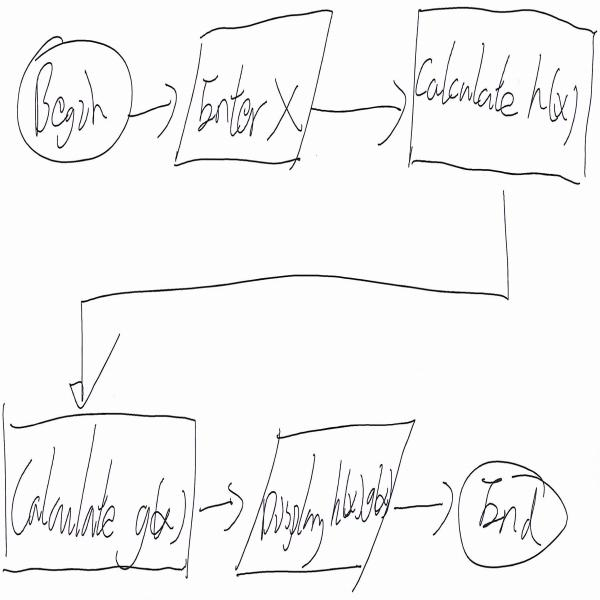arrow: (71, 187, 523, 408), (312, 77, 406, 149), (393, 468, 456, 546), (125, 79, 185, 145), (198, 484, 246, 535)
data: (231, 411, 420, 581), (170, 10, 339, 178)
process: (0, 397, 197, 581), (407, 0, 597, 183)
terminator: (14, 32, 134, 171), (456, 451, 568, 571)
text: (8, 428, 187, 564), (413, 27, 577, 155), (262, 450, 395, 569), (198, 54, 302, 147), (33, 60, 108, 146), (482, 473, 542, 551)
